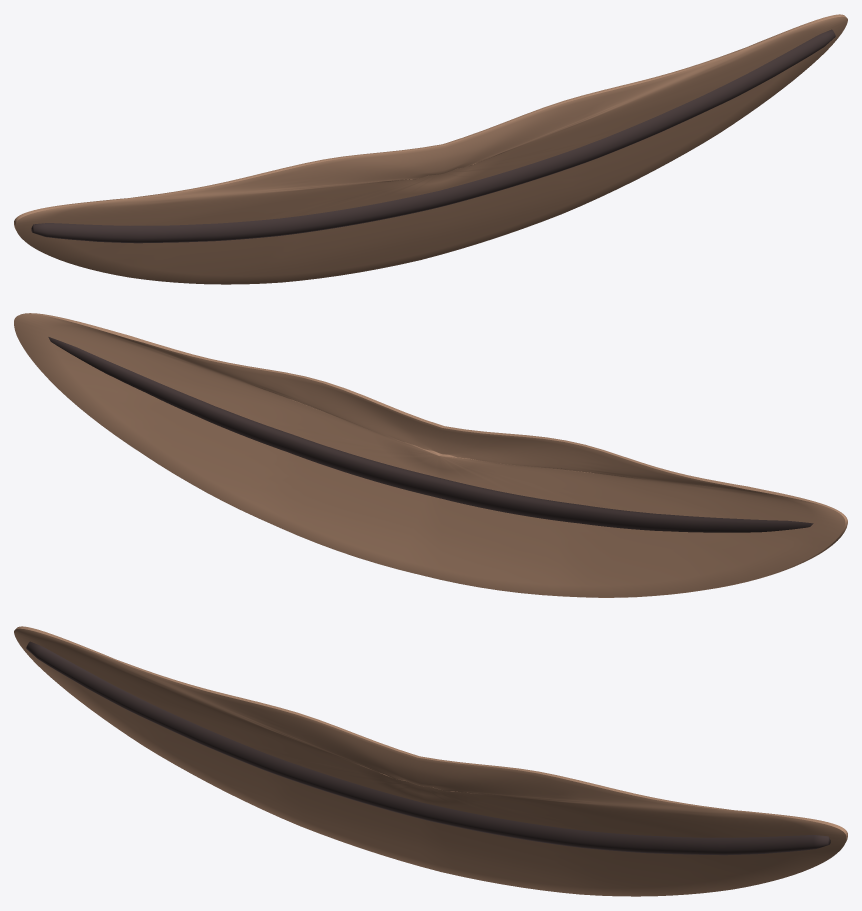
The model's file is Feminine-mouth-lips.glb.
The picture shows the model from 3 angles, top to bottom: view 1: azimuth 30°, elevation 25°; view 2: azimuth 150°, elevation 25°; view 3: azimuth 330°, elevation 25°; orthographic projection.
Parts seen in each view (by area): view 1: Face / closed mouth182, Face / closed seam182; view 2: Face / closed mouth182, Face / closed seam182; view 3: Face / closed mouth182, Face / closed seam182.
Boxes of the visible parts, bbox=[...] form: Face / closed mouth182: bbox=[14, 14, 847, 284]; Face / closed seam182: bbox=[31, 29, 835, 243]; Face / closed mouth182: bbox=[14, 313, 847, 597]; Face / closed seam182: bbox=[48, 337, 813, 532]; Face / closed mouth182: bbox=[14, 626, 847, 896]; Face / closed seam182: bbox=[26, 641, 830, 855].
Size of the model in its own units: 0.1564 by 0.0279 by 0.00866.
